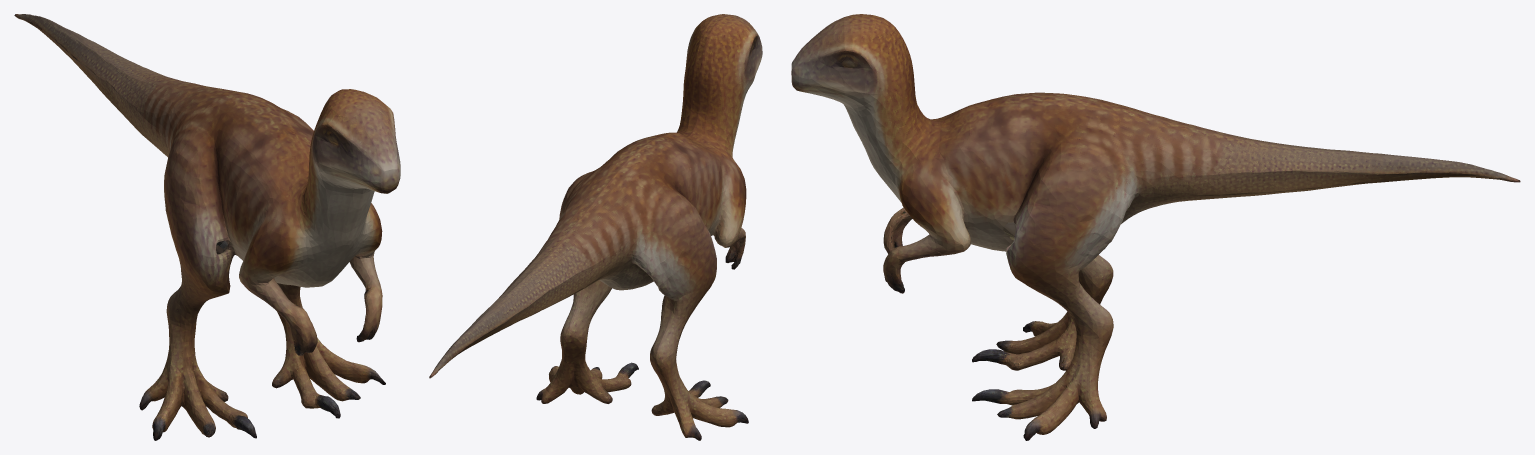
The picture shows the model from 3 angles, left to right: view 1: azimuth 30°, elevation 25°; view 2: azimuth 150°, elevation 25°; view 3: azimuth 270°, elevation 25°; orthographic projection. The views are drawn at different scales.
Visible parts, largest first — view 1: world; view 2: world; view 3: world.
Part boxes in pixels (<box>): world: <box>14,14,400,440</box>; world: <box>429,14,762,440</box>; world: <box>791,14,1520,440</box>.
Size of the model in its own units: 0.3553 by 0.5589 by 0.9996.
Materials: 1 (1 with a texture image).
